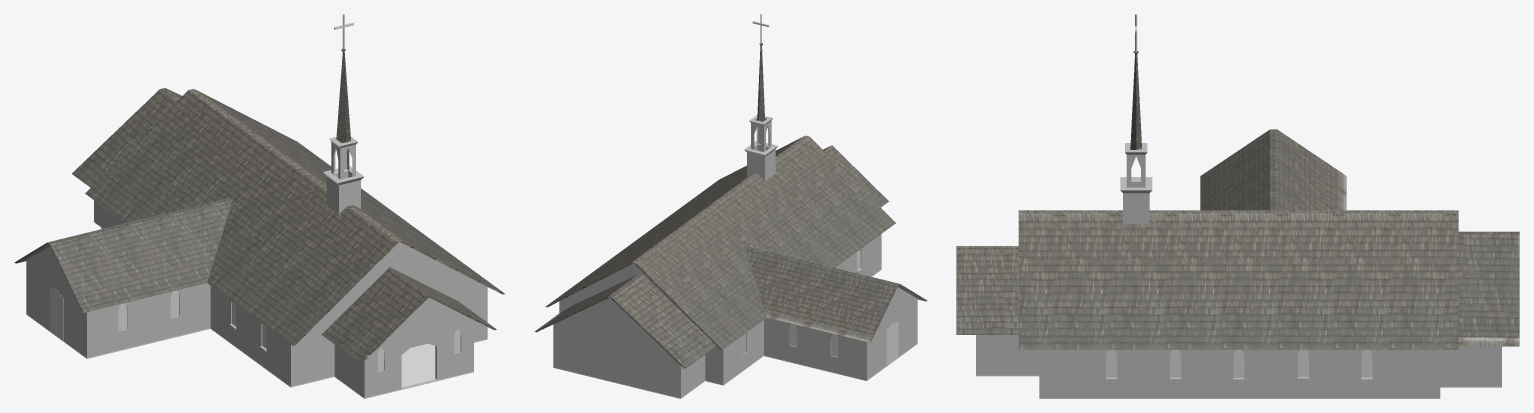
File: Church.fbx
The picture shows the model from 3 angles, left to right: view 1: azimuth 30°, elevation 25°; view 2: azimuth 150°, elevation 25°; view 3: azimuth 270°, elevation 25°; orthographic projection. The views are drawn at different scales.
Parts seen in each view (by area): view 1: BigRoof, Walls, NorthRoof, FrontRoof, RearRoof, Floor, Belfry, Spire, Lantern, Cube, AnnexWindows1; view 2: BigRoof, Walls, NorthRoof, RearRoof, Belfry, FrontRoof, Lantern, Floor, Cube, Spire; view 3: BigRoof, Walls, NorthRoof, RearRoof, FrontRoof, LongSideWindows, Belfry, Spire, Floor, Lantern.
Part boxes in pixels (<box>): BigRoof: <box>85,89,504,345</box>; Walls: <box>26,200,487,397</box>; NorthRoof: <box>14,198,232,312</box>; FrontRoof: <box>321,267,496,362</box>; RearRoof: <box>71,88,181,187</box>; Floor: <box>26,221,487,398</box>; Belfry: <box>323,166,363,213</box>; Spire: <box>336,48,350,143</box>; Lantern: <box>329,137,357,179</box>; Cube: <box>49,288,63,340</box>; AnnexWindows1: <box>118,290,179,330</box>; BigRoof: <box>545,135,895,349</box>; Walls: <box>553,234,917,397</box>; NorthRoof: <box>745,247,927,342</box>; RearRoof: <box>534,274,716,368</box>; Belfry: <box>744,141,777,180</box>; FrontRoof: <box>823,145,888,207</box>; Lantern: <box>749,115,772,151</box>; Floor: <box>553,269,917,398</box>; Cube: <box>886,322,898,365</box>; Spire: <box>755,43,766,121</box>; BigRoof: <box>1018,210,1458,349</box>; Walls: <box>976,335,1501,397</box>; NorthRoof: <box>1200,129,1346,210</box>; RearRoof: <box>1458,231,1519,346</box>; FrontRoof: <box>956,246,1018,334</box>; LongSideWindows: <box>1106,349,1372,377</box>; Belfry: <box>1120,177,1152,223</box>; Spire: <box>1130,51,1141,149</box>; Floor: <box>976,375,1501,398</box>; Lantern: <box>1125,143,1147,187</box>.
Bounding box in the file's own units: 3076 × 2761 × 4221.
